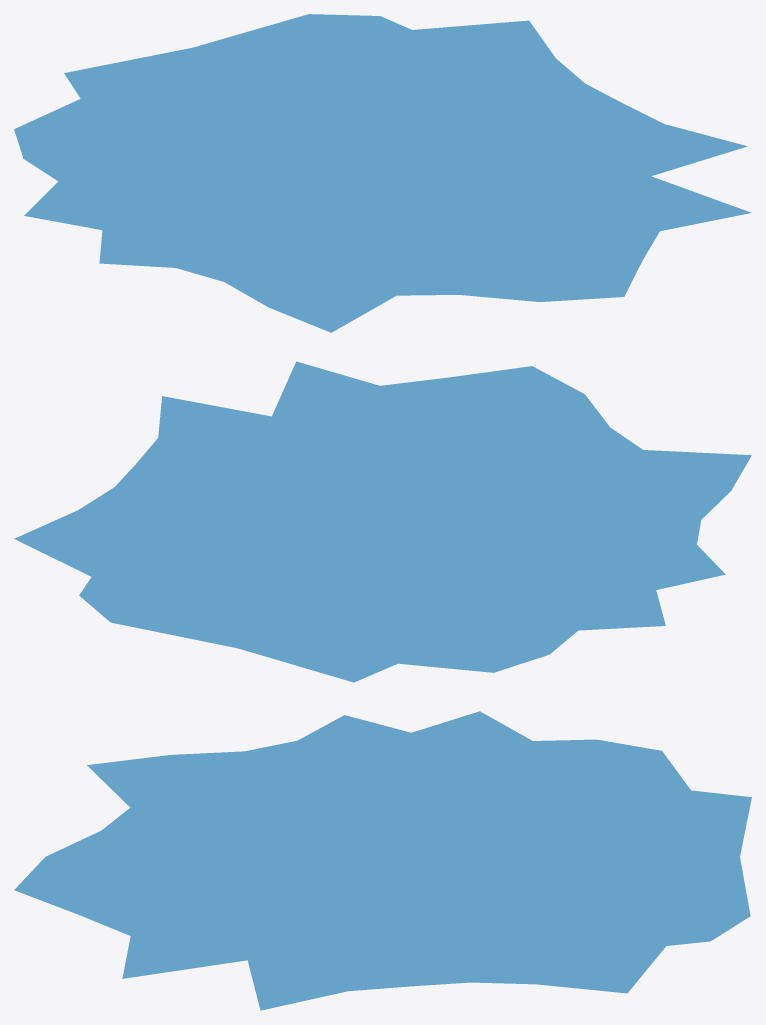
Rendered from lake.fbx.
3 renders of one model, top to bottom at view 1: azimuth 30°, elevation 25°; view 2: azimuth 150°, elevation 25°; view 3: azimuth 270°, elevation 25°, orthographic.
Parts seen in each view (by area): view 1: Lake; view 2: Lake; view 3: Lake.
Boxes of the visible parts, x1,y1,x2,y2 form: Lake: (14, 14, 751, 332); Lake: (14, 361, 751, 682); Lake: (14, 711, 751, 1010).
Bounding box in the file's own units: 506 × 8.58e-05 × 527.
